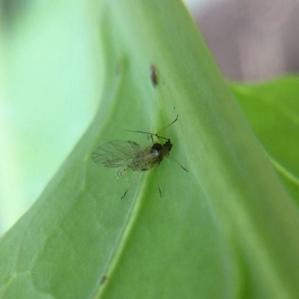Green peach aphid: (80, 99, 205, 204)
